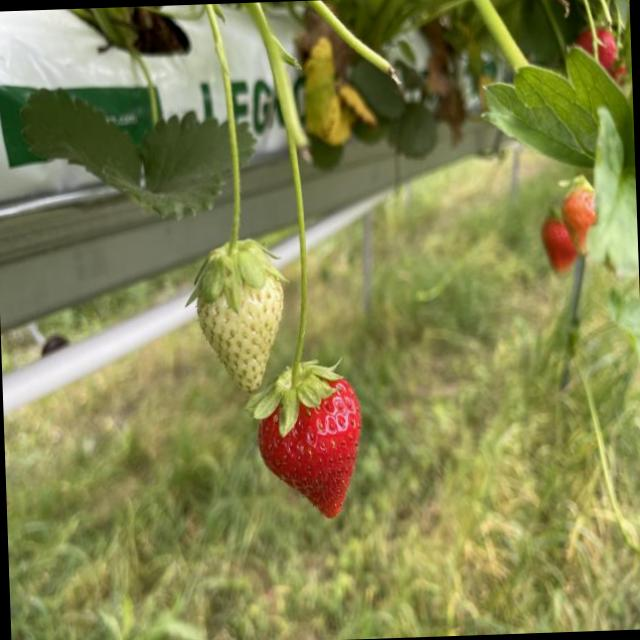stem: (246, 17, 342, 435), (188, 4, 279, 312)
strawberryNR: (197, 276, 282, 390)
strawberryR: (257, 378, 361, 516)
